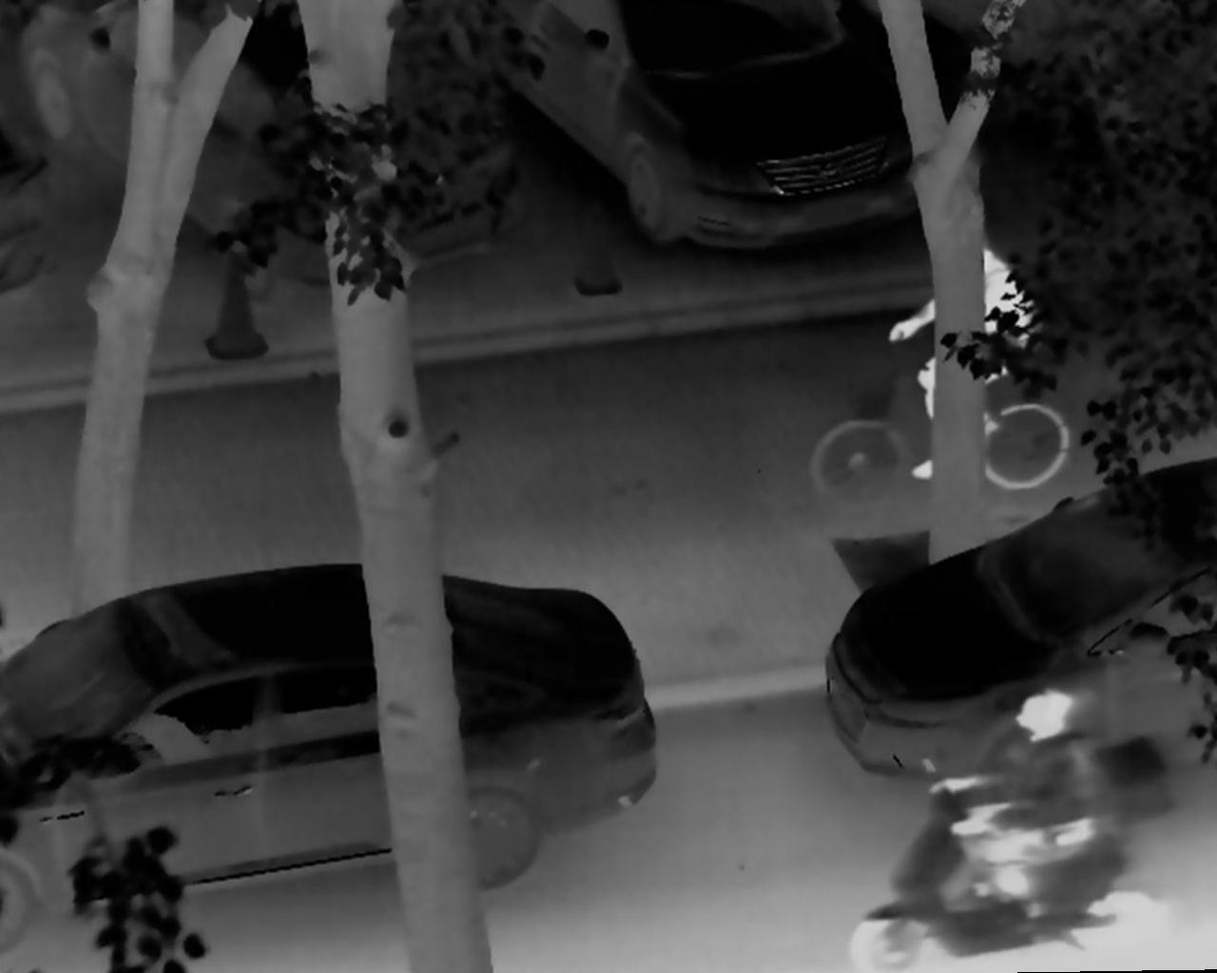person: (924, 681, 1093, 931), (884, 232, 1037, 499)
